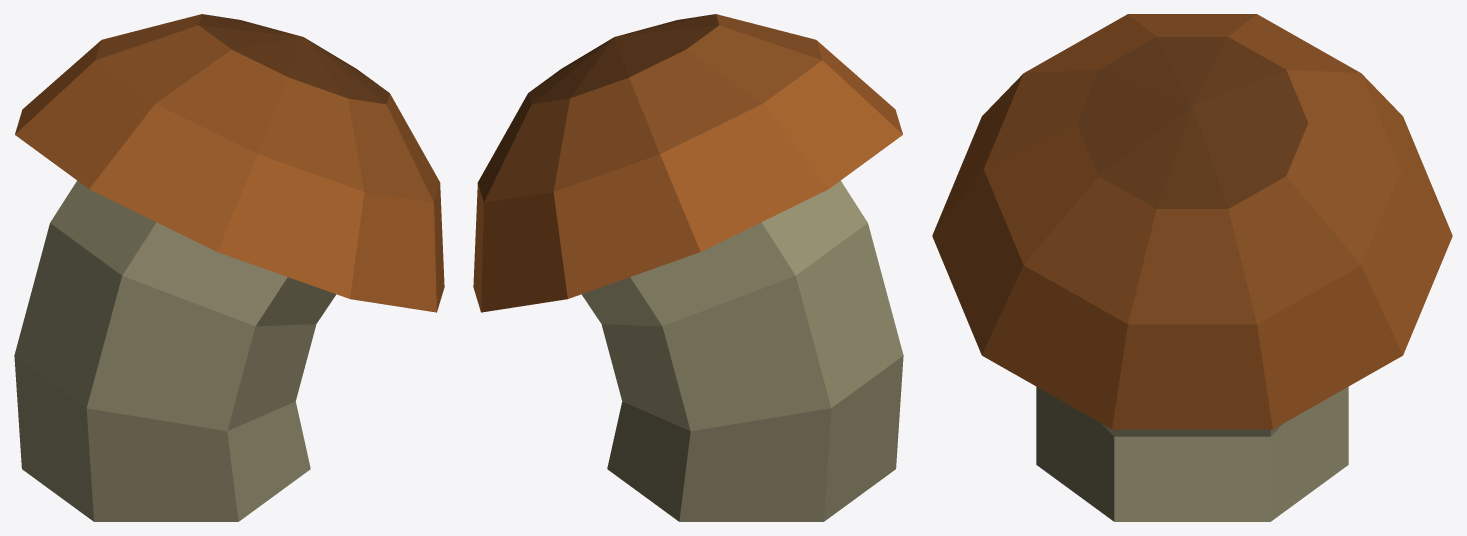
Rendered from Mushroom_3_Orange.fbx.
3 renders of one model, left to right at view 1: azimuth 30°, elevation 25°; view 2: azimuth 150°, elevation 25°; view 3: azimuth 270°, elevation 25°, orthographic. The views are drawn at different scales.
Visible parts, largest first — view 1: Mushroom_3_Orange; view 2: Mushroom_3_Orange; view 3: Mushroom_3_Orange.
Part boxes in pixels (x1,y1,x2,y2): Mushroom_3_Orange: (14, 14, 444, 521); Mushroom_3_Orange: (473, 14, 903, 521); Mushroom_3_Orange: (932, 14, 1452, 521).
Bounding box in the file's own units: 57.52 × 64.13 × 66.69.
